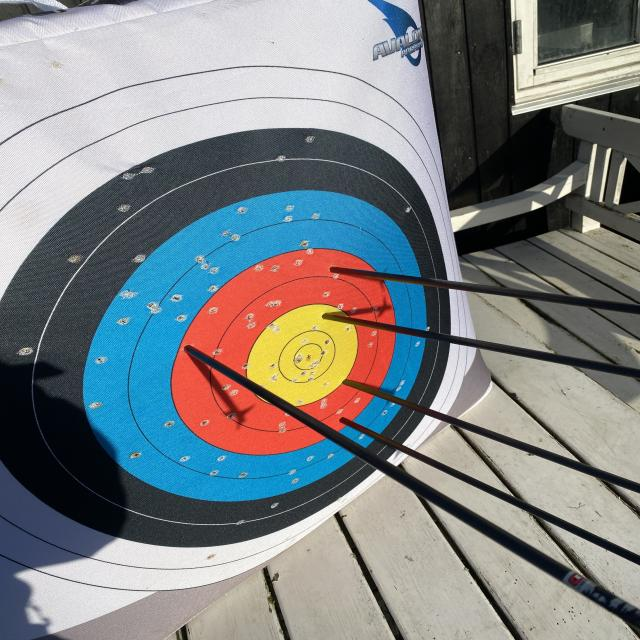Arrow_Red: (165, 332, 220, 369), (311, 248, 358, 290), (328, 363, 369, 400), (319, 408, 366, 439)
Arrow_Yellow: (306, 300, 347, 331)
